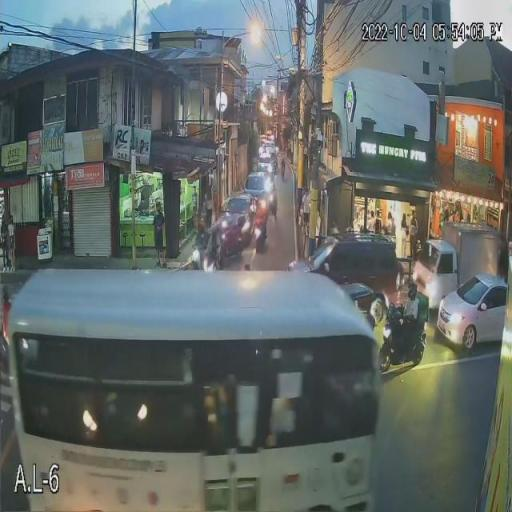helmet: (406, 279, 416, 299)
motorcycle: (378, 303, 427, 374), (187, 242, 218, 272), (246, 222, 268, 255)
rider: (394, 283, 424, 352), (194, 219, 220, 261), (251, 197, 269, 235)
